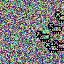sheep: (35, 30, 50, 42), (45, 41, 59, 53), (48, 23, 62, 34), (53, 40, 64, 51), (55, 11, 64, 23)
